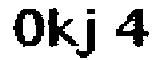0: (10, 6, 45, 49)
4: (113, 6, 149, 53)
j: (78, 6, 102, 60)
k: (47, 8, 78, 48)
